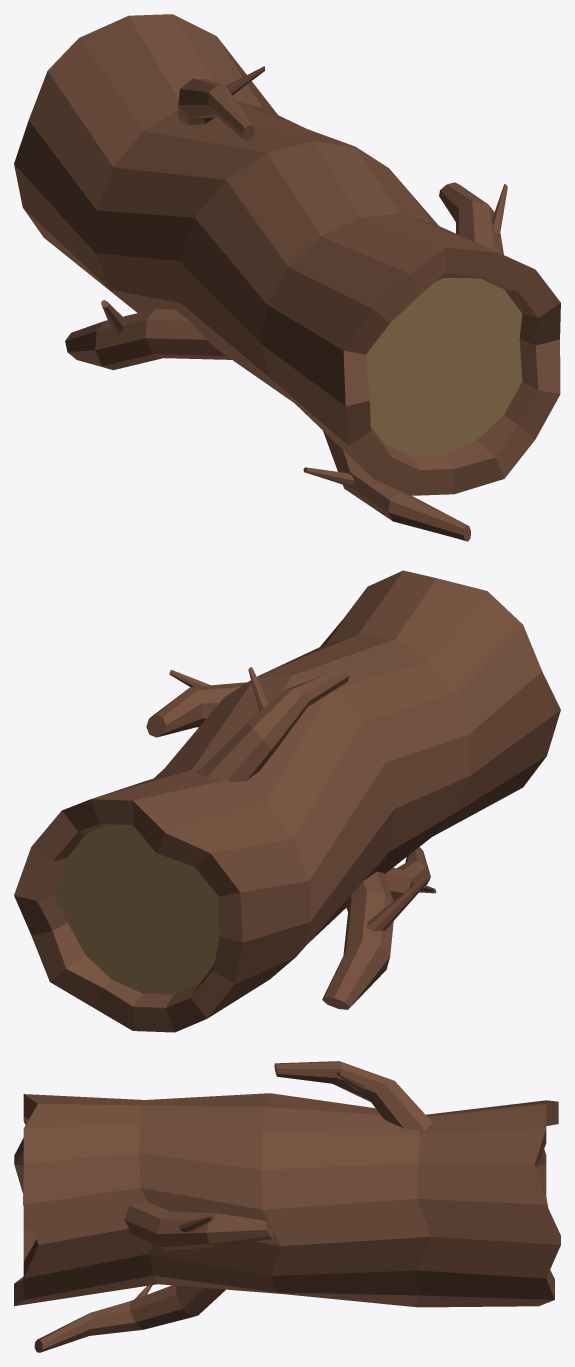
File: Wood_Element.fbx
3 renders of one model, top to bottom at view 1: azimuth 30°, elevation 25°; view 2: azimuth 150°, elevation 25°; view 3: azimuth 270°, elevation 25°, orthographic. The views are drawn at different scales.
Visible parts, largest first — view 1: Cylinder.067; view 2: Cylinder.067; view 3: Cylinder.067.
Boxes of the visible parts, x1,y1,x2,y2 form: Cylinder.067: [14, 14, 560, 541]; Cylinder.067: [14, 570, 560, 1032]; Cylinder.067: [14, 1061, 560, 1352].
Size of the model in its own units: 22.52 by 21.76 by 39.37.
